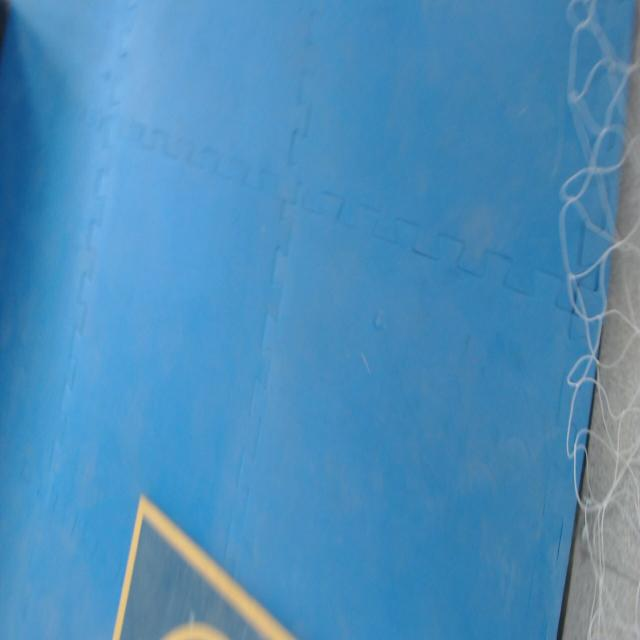base_pouso: (112, 494, 299, 639)
